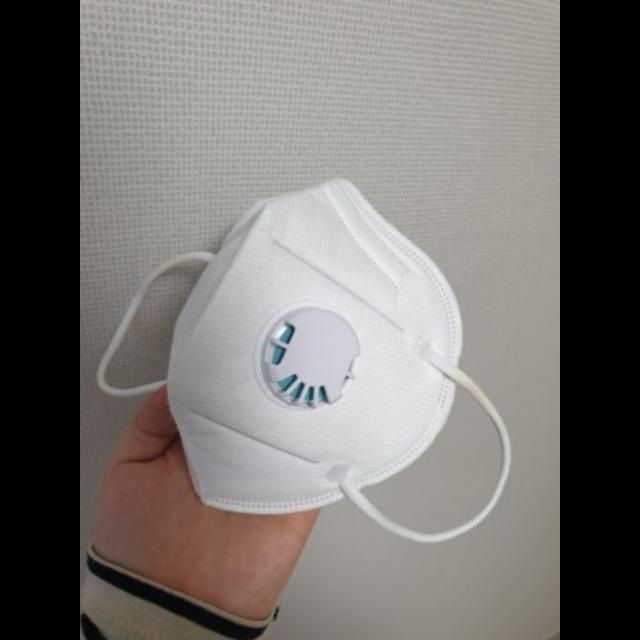masks: (93, 153, 533, 555)
